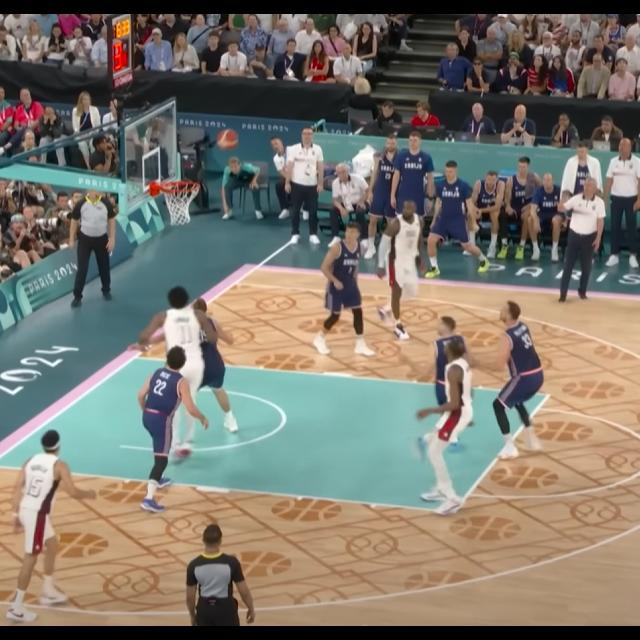basketball: (215, 128, 238, 149)
hoop: (159, 181, 198, 227)
